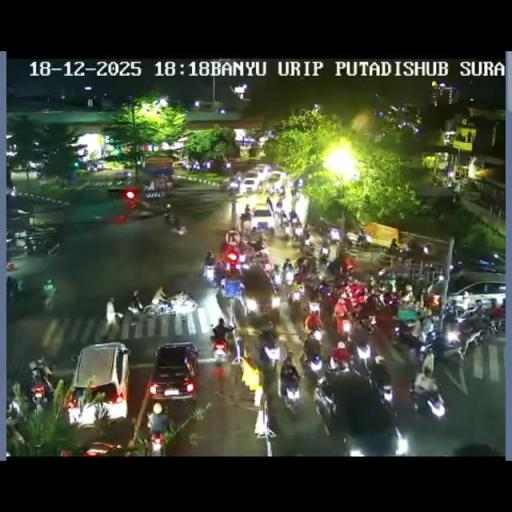Car: (66, 342, 130, 426), (148, 342, 199, 402), (446, 281, 506, 312), (452, 246, 505, 278), (250, 205, 274, 233), (264, 170, 286, 187), (239, 176, 261, 193), (250, 164, 269, 181), (84, 159, 106, 173), (172, 160, 190, 169)
Motorcycle: (296, 286, 392, 396), (266, 200, 346, 267), (422, 322, 462, 362), (410, 376, 446, 418), (142, 290, 198, 317), (465, 307, 504, 344), (394, 317, 426, 355), (313, 378, 337, 428), (278, 366, 300, 413), (220, 277, 247, 313), (228, 346, 246, 397), (394, 239, 432, 263), (29, 369, 52, 408), (361, 286, 390, 314), (258, 333, 282, 366), (99, 308, 123, 341), (374, 373, 396, 408), (352, 335, 374, 369), (302, 336, 324, 369), (24, 234, 56, 256), (253, 249, 275, 279), (6, 387, 26, 420), (210, 332, 230, 363), (302, 270, 324, 297), (147, 427, 166, 455), (288, 279, 306, 307), (329, 349, 350, 373), (224, 250, 243, 276), (358, 310, 378, 334), (334, 311, 352, 337), (6, 276, 24, 302), (130, 204, 158, 220), (346, 230, 370, 248), (393, 429, 409, 456), (325, 258, 344, 279), (422, 290, 440, 312), (420, 260, 438, 282), (126, 299, 146, 316), (212, 262, 226, 286), (42, 289, 56, 313), (280, 265, 294, 288), (240, 248, 254, 270), (307, 295, 321, 317), (326, 226, 342, 245), (289, 216, 302, 238), (244, 295, 259, 314), (268, 290, 282, 310), (295, 256, 310, 274), (382, 274, 396, 293), (327, 289, 342, 306), (399, 286, 414, 303), (302, 241, 316, 259), (250, 236, 265, 252), (240, 214, 252, 233), (343, 255, 356, 272), (318, 242, 330, 260), (163, 212, 176, 227), (367, 274, 378, 290), (227, 227, 238, 243), (452, 186, 461, 204), (204, 250, 214, 266), (291, 184, 300, 201), (302, 224, 310, 242), (266, 196, 274, 214), (226, 184, 236, 198), (175, 224, 187, 235), (282, 217, 290, 233), (276, 198, 283, 212), (277, 184, 285, 196), (35, 168, 43, 178), (9, 186, 15, 198)
